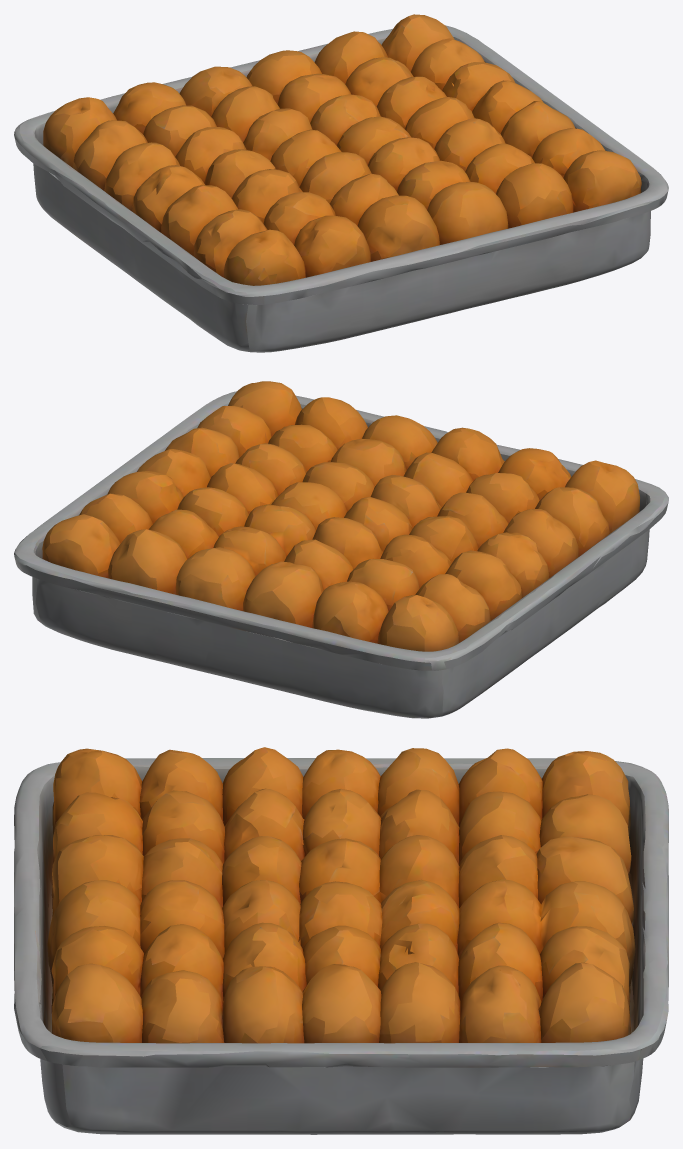
Rendered from akara_tray.glb.
The picture shows the model from 3 angles, top to bottom: view 1: azimuth 30°, elevation 25°; view 2: azimuth 150°, elevation 25°; view 3: azimuth 270°, elevation 25°; orthographic projection. The views are drawn at different scales.
Visible parts, largest first — view 1: geometry_0; view 2: geometry_0; view 3: geometry_0.
Boxes of the visible parts, left/top/right/bottom form: geometry_0: left=14, top=14, right=668, bottom=352; geometry_0: left=14, top=381, right=668, bottom=718; geometry_0: left=14, top=747, right=668, bottom=1134.
Bounding box in the file's own units: 0.45 × 0.112 × 0.4219.
Materials: 1 (1 with a texture image).
